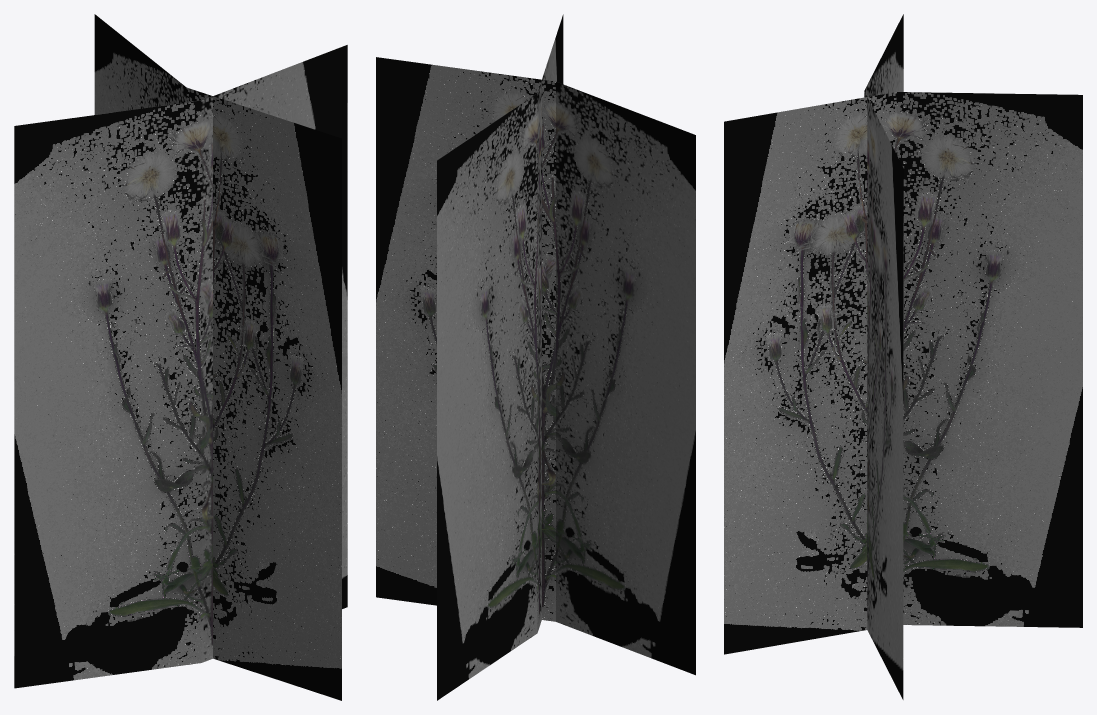
File: white_flower_01.glb
3 renders of one model, left to right at view 1: azimuth 30°, elevation 25°; view 2: azimuth 150°, elevation 25°; view 3: azimuth 270°, elevation 25°, orthographic. The views are drawn at different scales.
Visible parts, largest first — view 1: Plane.082; view 2: Plane.082; view 3: Plane.082.
Part boxes in pixels (<box>): Plane.082: <box>14,14,347,700</box>; Plane.082: <box>376,14,695,700</box>; Plane.082: <box>724,14,1082,699</box>.
Bounding box in the file's own units: 0.6168 × 0.9953 × 0.6074.
1 material, 1 textured.
